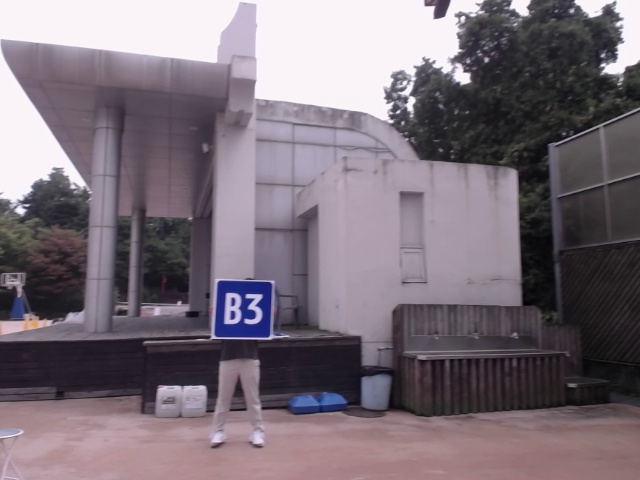delivery_b3: (214, 279, 273, 337)
